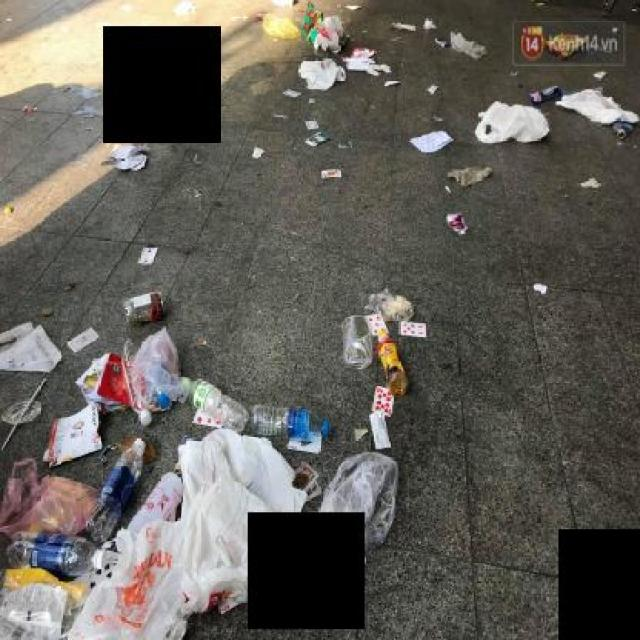plastic bag: (6, 423, 308, 639), (306, 440, 403, 569), (131, 323, 183, 405), (472, 96, 552, 142), (86, 351, 140, 409), (554, 85, 637, 122), (306, 3, 352, 57), (338, 312, 377, 372), (297, 55, 346, 100), (340, 44, 394, 84), (443, 23, 492, 60), (262, 8, 300, 46)
